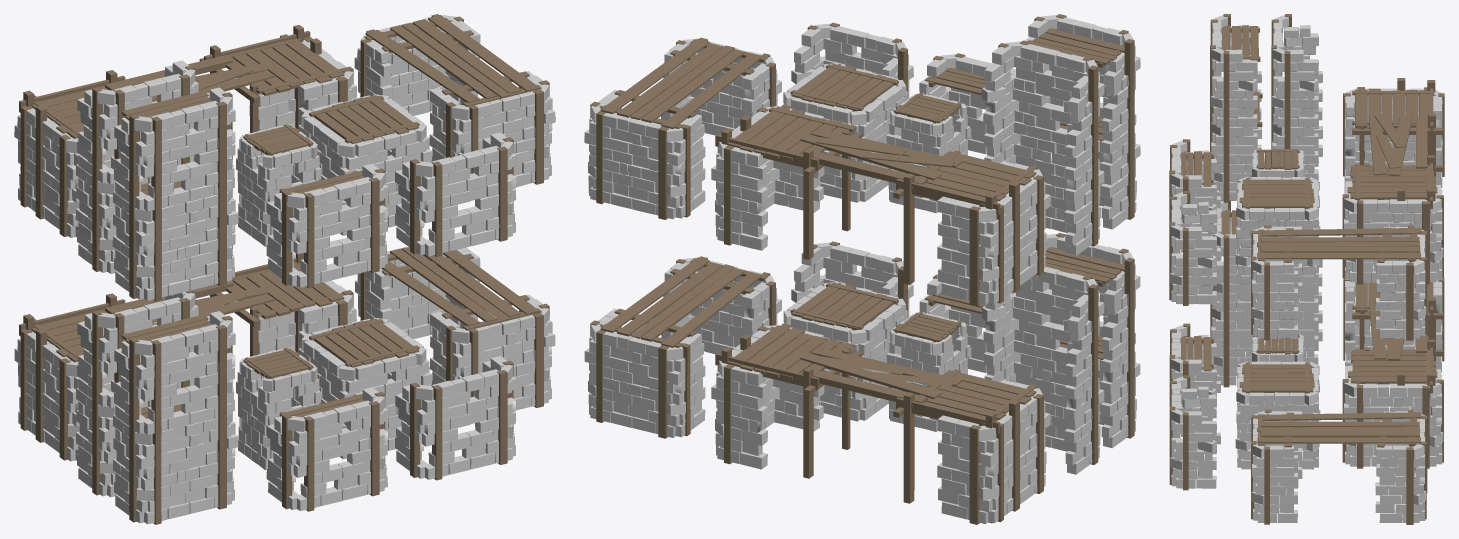
File: Ruined_Foundations_A.fbx
The picture shows the model from 3 angles, left to right: view 1: azimuth 30°, elevation 25°; view 2: azimuth 150°, elevation 25°; view 3: azimuth 270°, elevation 25°; orthographic projection. The views are drawn at different scales.
Parts seen in each view (by area): view 1: Ruined_Foundation_1A6, Ruined_Foundation_1A6.001, Ruined_Foundation_1A7, Ruined_Foundation_1A8, Ruined_Foundation_1A7.001, Ruined_Foundation_1A8.001, Ruined_Foundation_1A4, Ruined_Foundation_1A4.001, Ruined_Foundation_1A3, Ruined_Foundation_1A3.001, Ruined_Foundation_1A5, Ruined_Foundation_1A5.001 (+4 smaller); view 2: Ruined_Foundation_1A8, Ruined_Foundation_1A8.001, Ruined_Foundation_1A7, Ruined_Foundation_1A7.001, Ruined_Foundation_1A5, Ruined_Foundation_1A5.001, Ruined_Foundation_1A6, Ruined_Foundation_1A6.001, Ruined_Foundation_1A2.001, Ruined_Foundation_1A2, Ruined_Foundation_1A1.001, Ruined_Foundation_1A1 (+4 smaller); view 3: Ruined_Foundation_1A8, Ruined_Foundation_1A7, Ruined_Foundation_1A7.001, Ruined_Foundation_1A8.001, Ruined_Foundation_1A6, Ruined_Foundation_1A5, Ruined_Foundation_1A2.001, Ruined_Foundation_1A2, Ruined_Foundation_1A6.001, Ruined_Foundation_1A3, Ruined_Foundation_1A3.001, Ruined_Foundation_1A4.001 (+4 smaller).
Boxes of the visible parts, x1,y1,x2,y2 form: Ruined_Foundation_1A6: [112, 87, 238, 301]; Ruined_Foundation_1A6.001: [113, 311, 238, 524]; Ruined_Foundation_1A7: [354, 14, 555, 186]; Ruined_Foundation_1A8: [14, 25, 356, 237]; Ruined_Foundation_1A7.001: [355, 247, 555, 410]; Ruined_Foundation_1A8.001: [14, 253, 356, 461]; Ruined_Foundation_1A4: [266, 163, 388, 288]; Ruined_Foundation_1A4.001: [266, 387, 388, 511]; Ruined_Foundation_1A3: [395, 132, 516, 256]; Ruined_Foundation_1A3.001: [395, 356, 516, 480]; Ruined_Foundation_1A5: [75, 60, 198, 273]; Ruined_Foundation_1A5.001: [76, 290, 198, 497]; Ruined_Foundation_1A8: [711, 104, 1050, 306]; Ruined_Foundation_1A8.001: [711, 323, 1050, 524]; Ruined_Foundation_1A7: [584, 37, 781, 219]; Ruined_Foundation_1A7.001: [584, 256, 781, 438]; Ruined_Foundation_1A5: [981, 40, 1104, 255]; Ruined_Foundation_1A5.001: [981, 267, 1104, 474]; Ruined_Foundation_1A6: [1025, 14, 1140, 229]; Ruined_Foundation_1A6.001: [1044, 233, 1140, 448]; Ruined_Foundation_1A2.001: [782, 282, 907, 421]; Ruined_Foundation_1A2: [782, 63, 907, 202]; Ruined_Foundation_1A1.001: [886, 311, 970, 431]; Ruined_Foundation_1A1: [886, 93, 970, 213]; Ruined_Foundation_1A8: [1342, 78, 1444, 284]; Ruined_Foundation_1A7: [1251, 225, 1427, 340]; Ruined_Foundation_1A7.001: [1251, 409, 1427, 524]; Ruined_Foundation_1A8.001: [1342, 278, 1444, 468]; Ruined_Foundation_1A6: [1210, 14, 1262, 202]; Ruined_Foundation_1A5: [1271, 14, 1322, 180]; Ruined_Foundation_1A2.001: [1235, 361, 1320, 469]; Ruined_Foundation_1A2: [1235, 177, 1320, 284]; Ruined_Foundation_1A6.001: [1210, 201, 1252, 387]; Ruined_Foundation_1A3: [1169, 191, 1221, 305]; Ruined_Foundation_1A3.001: [1169, 375, 1220, 490]; Ruined_Foundation_1A4.001: [1169, 323, 1220, 436].
Size of the model in its own units: 2067 by 1809 by 1352.
